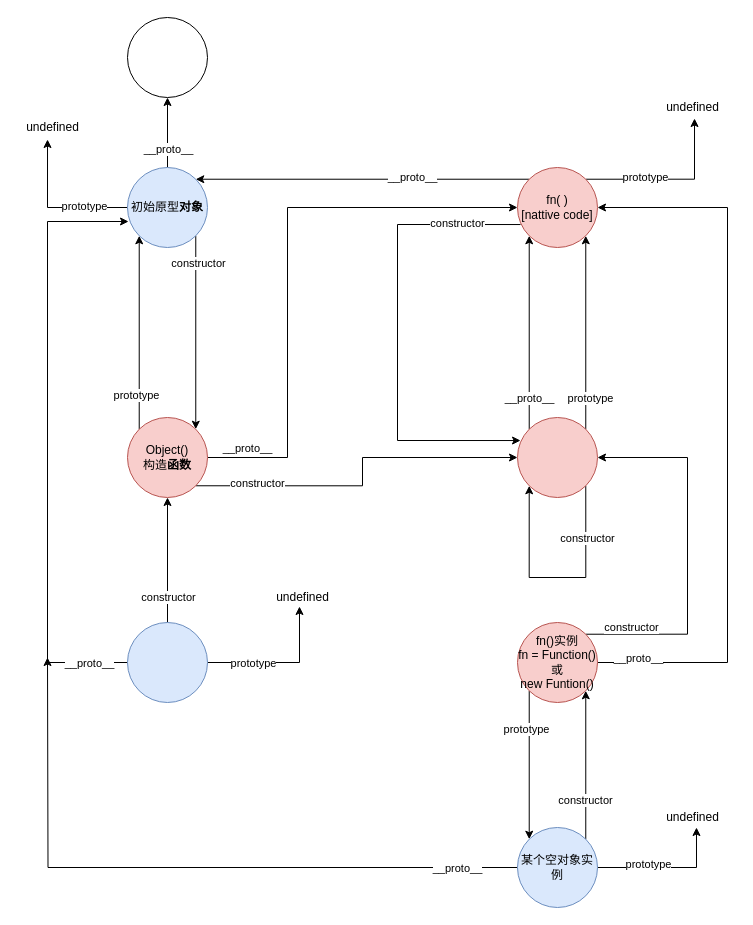
Image size: 753x925. Some labels were removed from this diagram. The shapes that lost their labels are listed below. From the top down, each one's centre as x and y in pixels, then its label:
At pixel 167 57: "null".
At pixel 557 457: "Function() 构造 函数".
At pixel 167 662: "obj 实例 new Objcet() 或 obj = {}".
